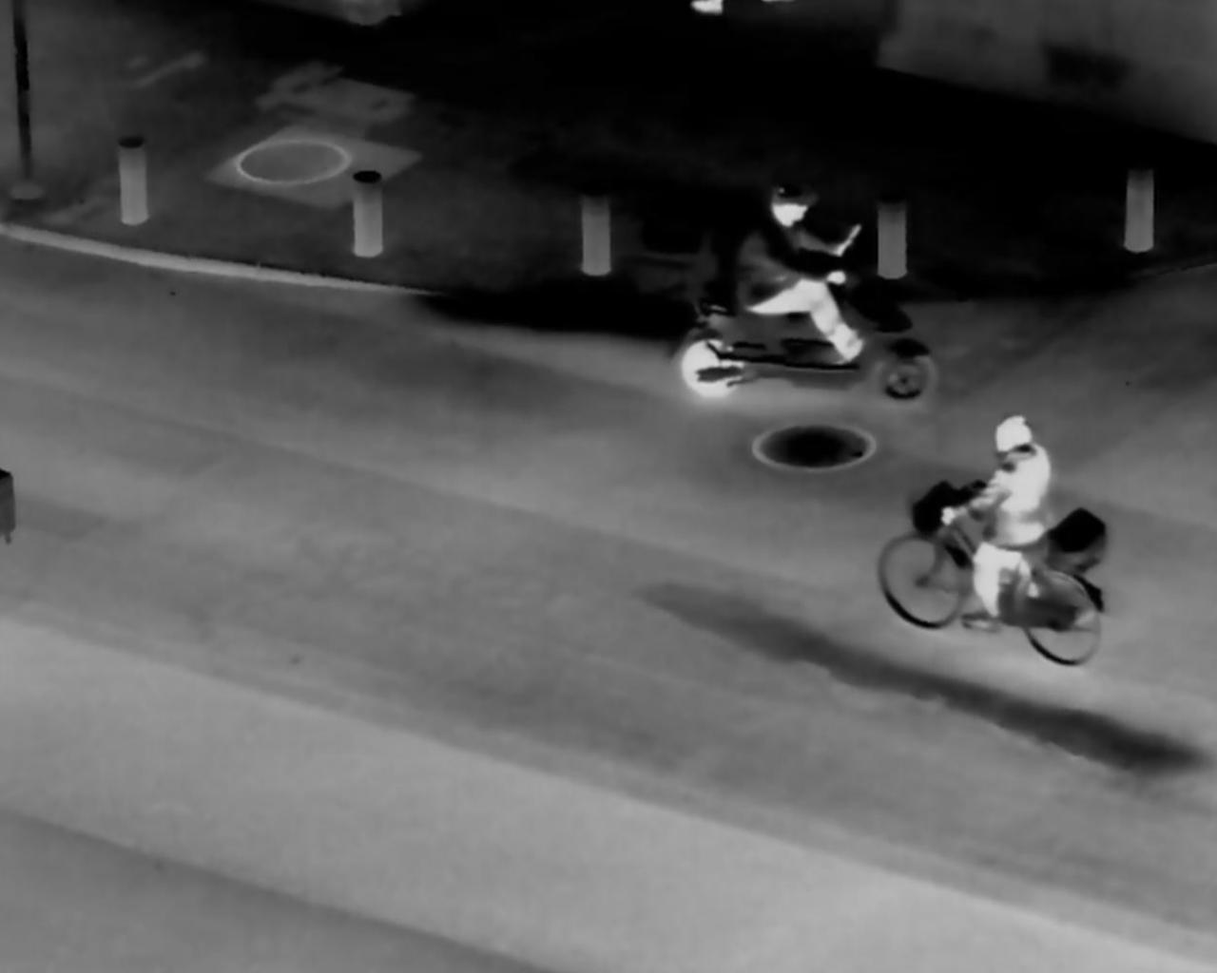person: (729, 166, 872, 370), (945, 404, 1061, 643)
